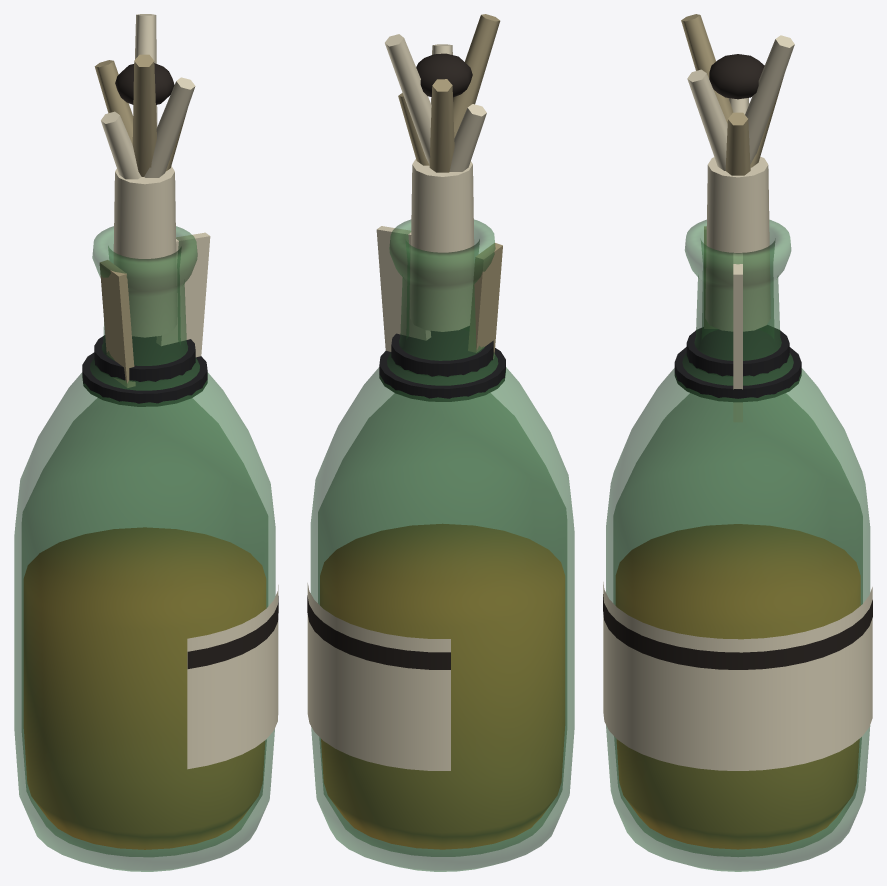
The model's file is molotov.glb.
The picture shows the model from 3 angles, left to right: view 1: azimuth 30°, elevation 25°; view 2: azimuth 150°, elevation 25°; view 3: azimuth 270°, elevation 25°; orthographic projection.
Parts seen in each view (by area): view 1: glass, petrol, molotov, label; view 2: glass, petrol, molotov, label; view 3: glass, petrol, molotov, label.
Part boxes in pixels (x1,y1,x2,y2): glass: (14,226,275,871); petrol: (24,527,265,849); molotov: (82,14,278,668); label: (187,585,278,769); glass: (310,219,574,871); petrol: (320,524,564,849); molotov: (307,14,505,669); label: (307,583,450,770); glass: (606,219,870,871); petrol: (616,524,860,849); molotov: (603,14,872,669); label: (603,582,872,770).
Bounding box in the file's own units: 0.1102 × 0.3677 × 0.1112.
